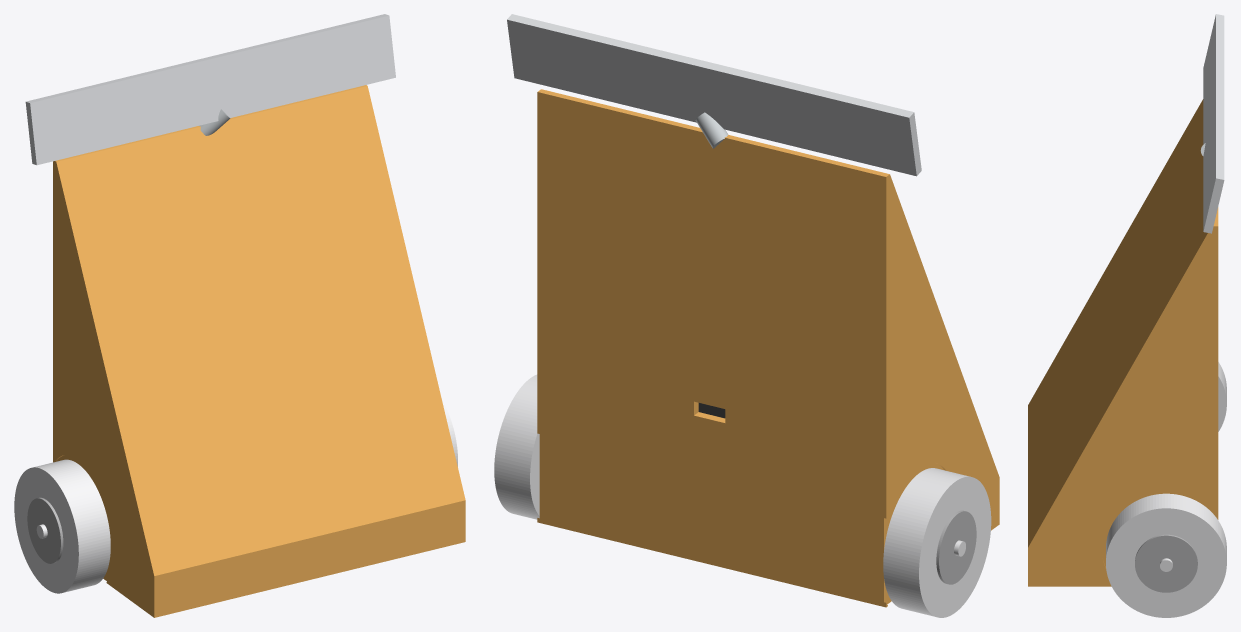
The model's file is smart_ant_5.glb.
3 renders of one model, left to right at view 1: azimuth 30°, elevation 25°; view 2: azimuth 150°, elevation 25°; view 3: azimuth 270°, elevation 25°, orthographic. The views are drawn at different scales.
Visible parts, largest first — view 1: chassis, lip, wheel_r0, dt_hub_wheel_r0; view 2: chassis, lip, wheel_r0, wheel_l0, dt_hub_wheel_r0; view 3: chassis, wheel_l0, lip, dt_hub_wheel_l0, wheel_r0.
Boxes of the visible parts, bbox=[...] form: chassis: bbox=[53, 85, 465, 617]; lip: bbox=[25, 14, 395, 165]; wheel_r0: bbox=[14, 459, 110, 593]; dt_hub_wheel_r0: bbox=[27, 497, 63, 563]; chassis: bbox=[537, 89, 999, 607]; lip: bbox=[507, 14, 921, 176]; wheel_r0: bbox=[883, 468, 991, 617]; wheel_l0: bbox=[494, 374, 539, 519]; dt_hub_wheel_r0: bbox=[936, 510, 976, 584]; chassis: bbox=[1028, 99, 1218, 586]; wheel_l0: bbox=[1106, 493, 1226, 617]; lip: bbox=[1203, 14, 1224, 233]; dt_hub_wheel_l0: bbox=[1135, 534, 1197, 592]; wheel_r0: bbox=[1218, 362, 1226, 431].
Size of the model in its own units: 98.2 by 111 by 46.
